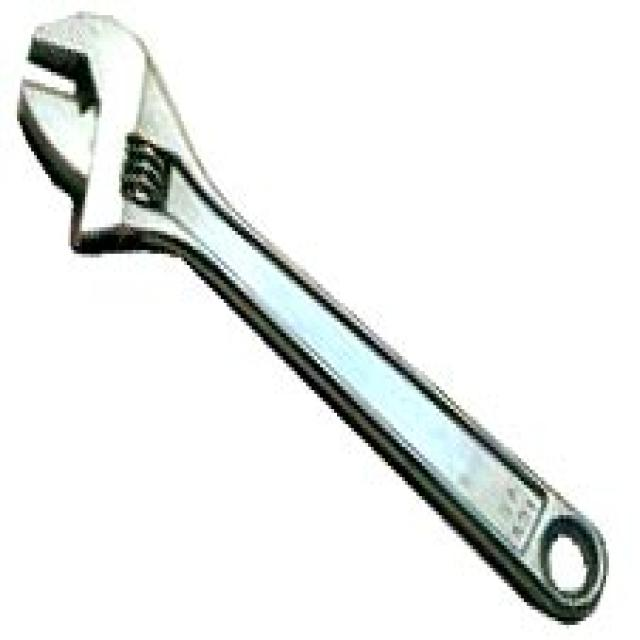wrench: (6, 0, 533, 452)
